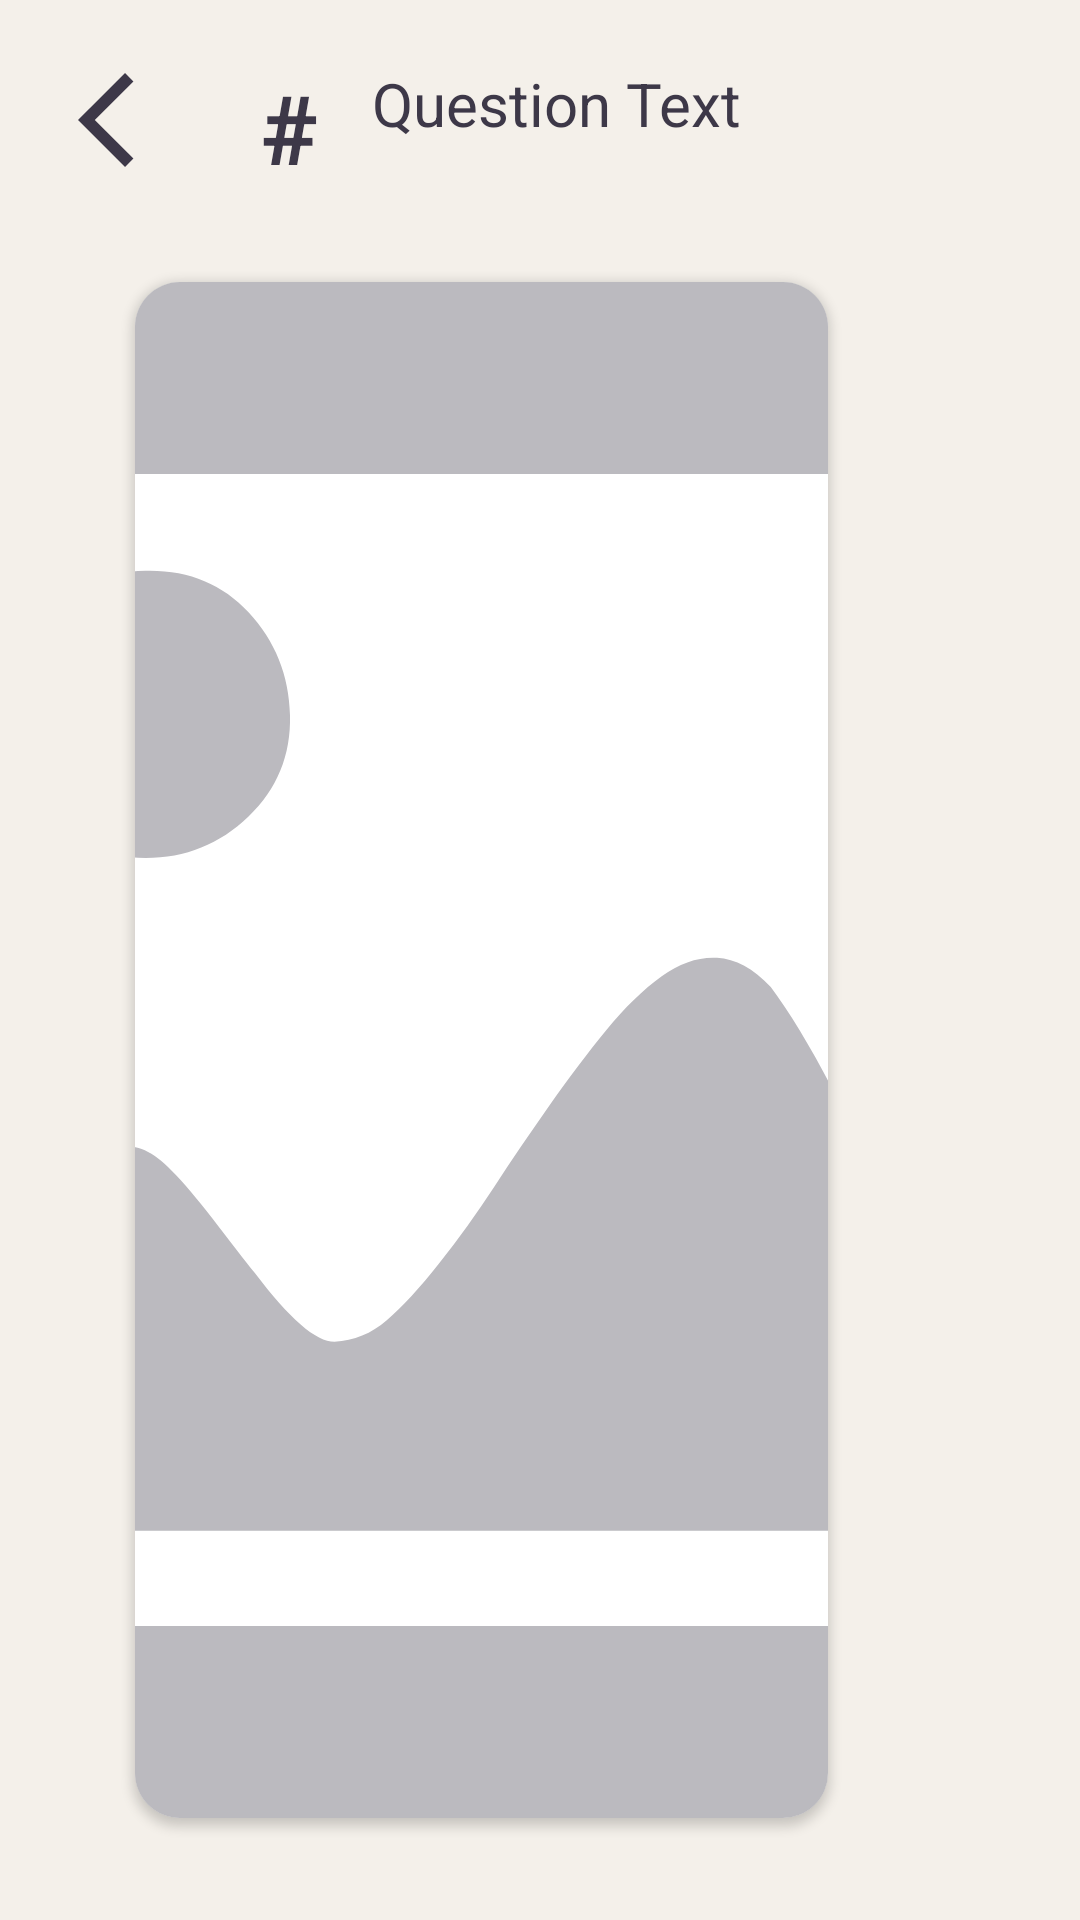

Icon bounding boxes for this 1080 × 1920 phone screenshot, format (x1, y1, x2, y2):
arrow back: (78, 73, 134, 167)
